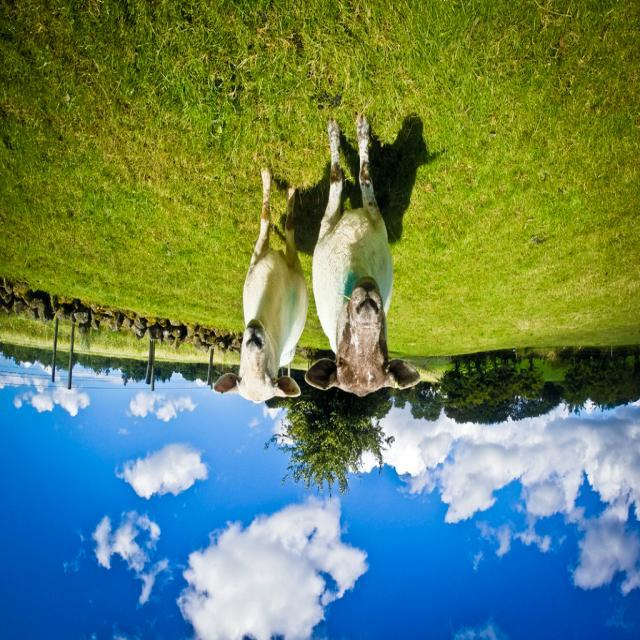Goat: (305, 113, 422, 399), (213, 168, 309, 405)
